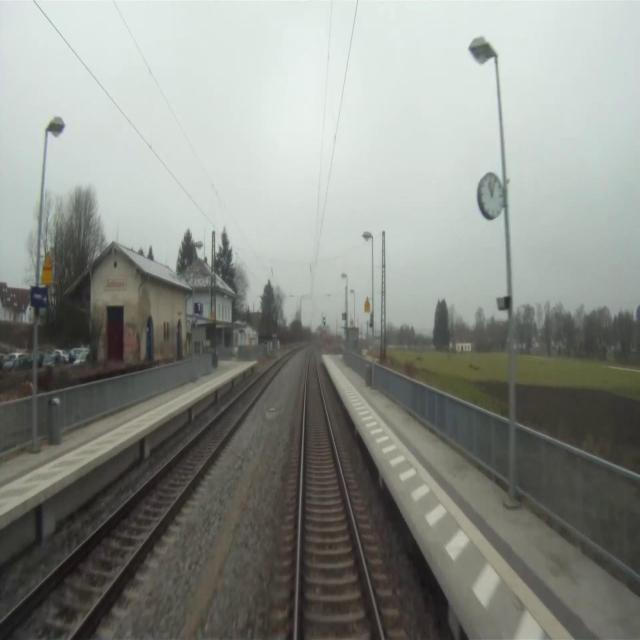rail-track: (0, 363, 279, 639), (298, 350, 380, 639)
